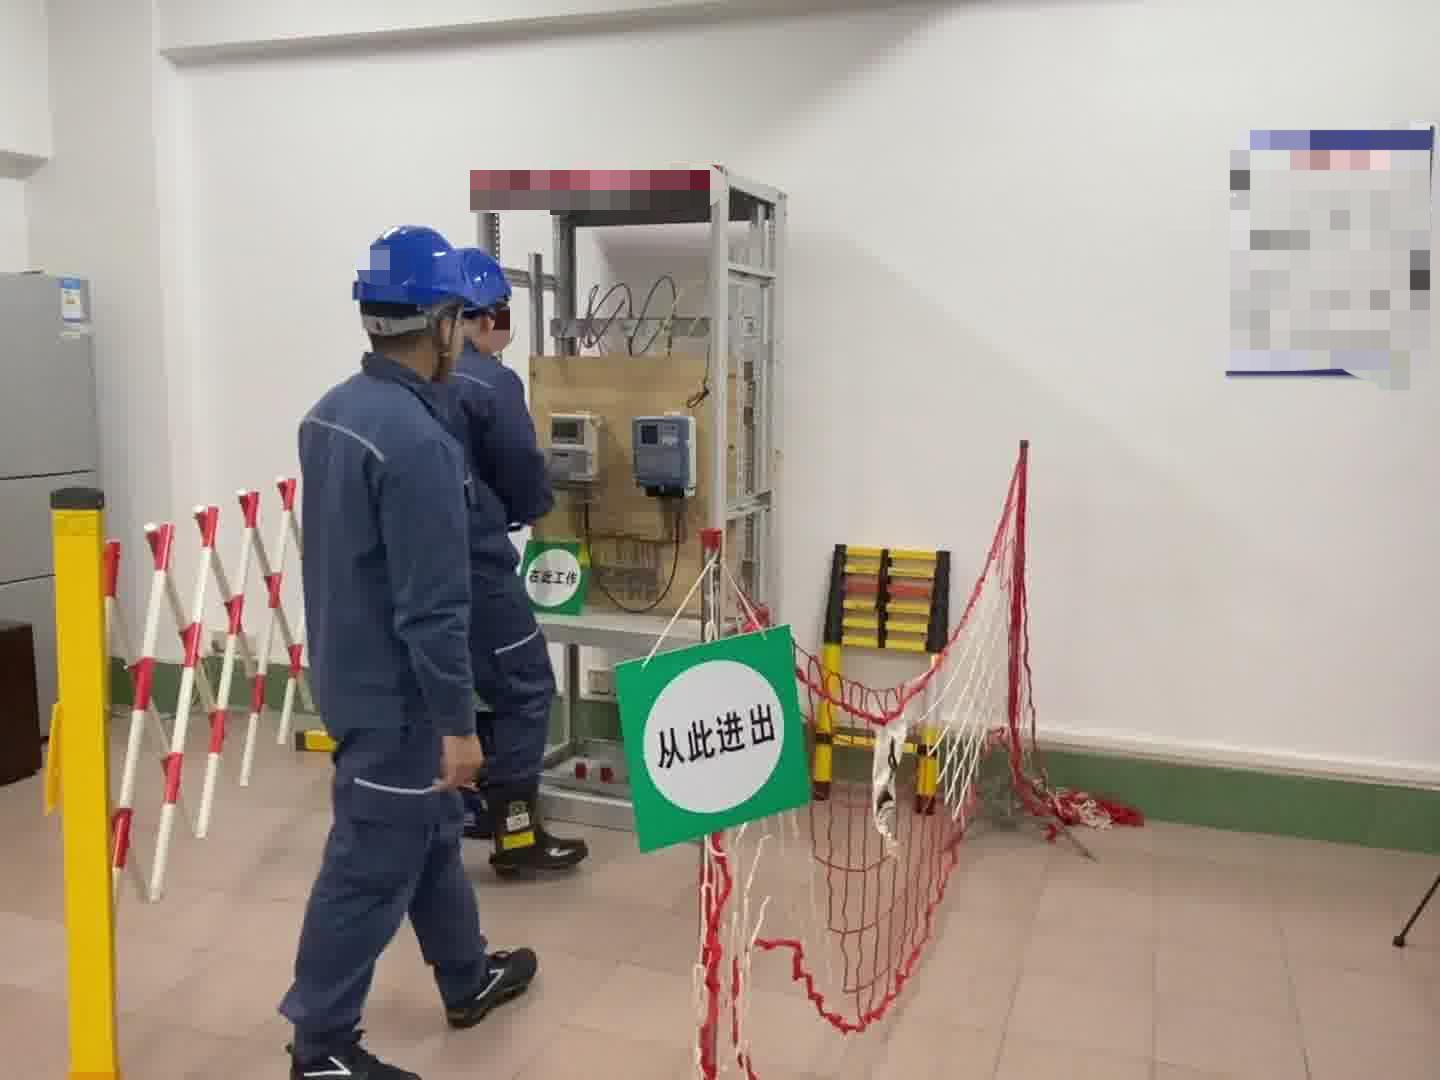halt: (351, 225, 516, 373)
inear: (421, 302, 466, 366)
noear: (469, 305, 503, 362)
